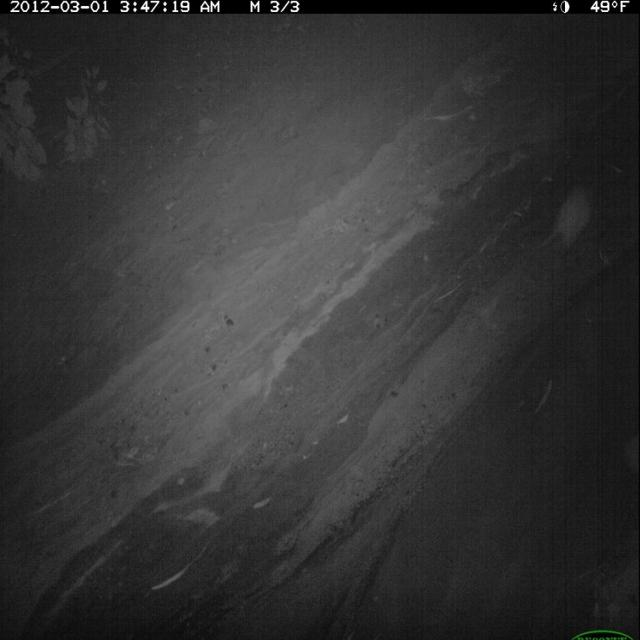opossum: (534, 179, 598, 256)
